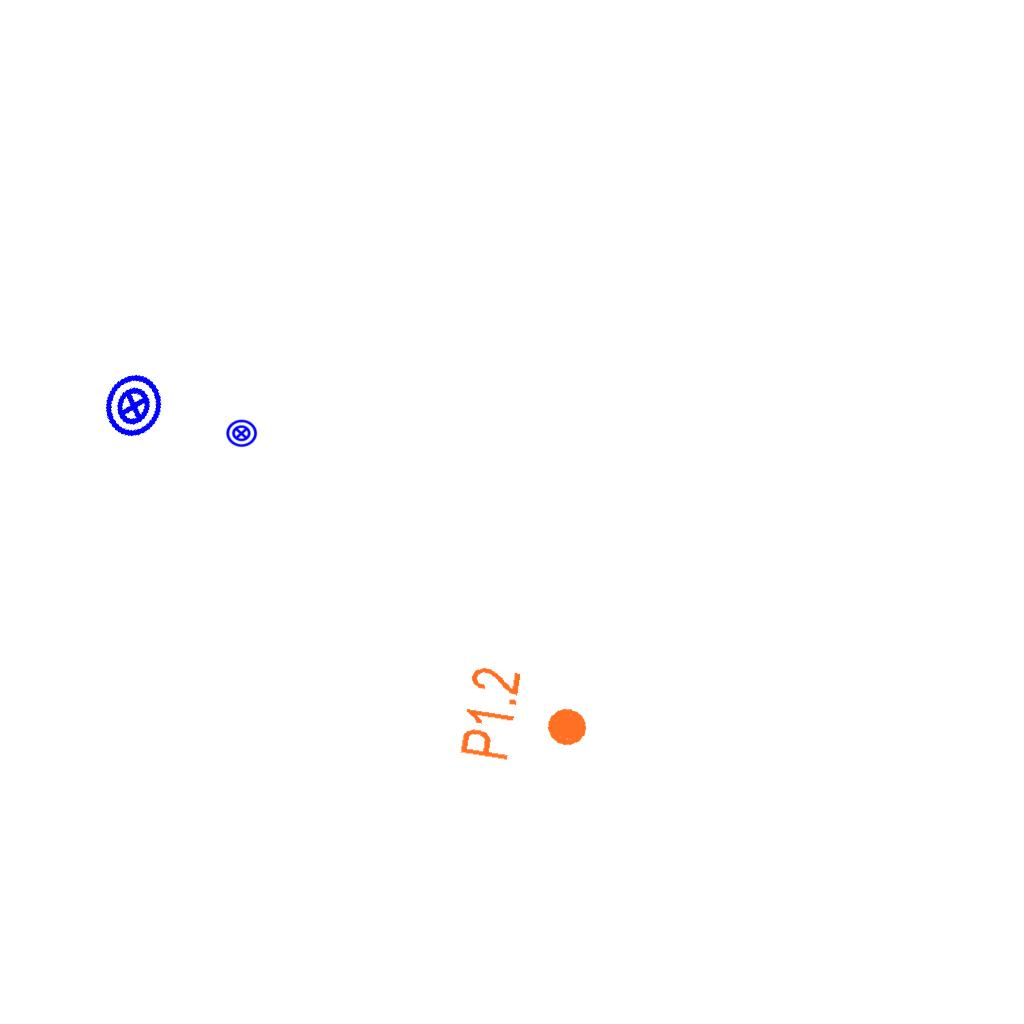Downlight_LED_Einbauleuchten_Flur: (456, 663, 597, 775)
Taster_beleuchtet: (92, 364, 176, 448), (225, 417, 258, 450)
